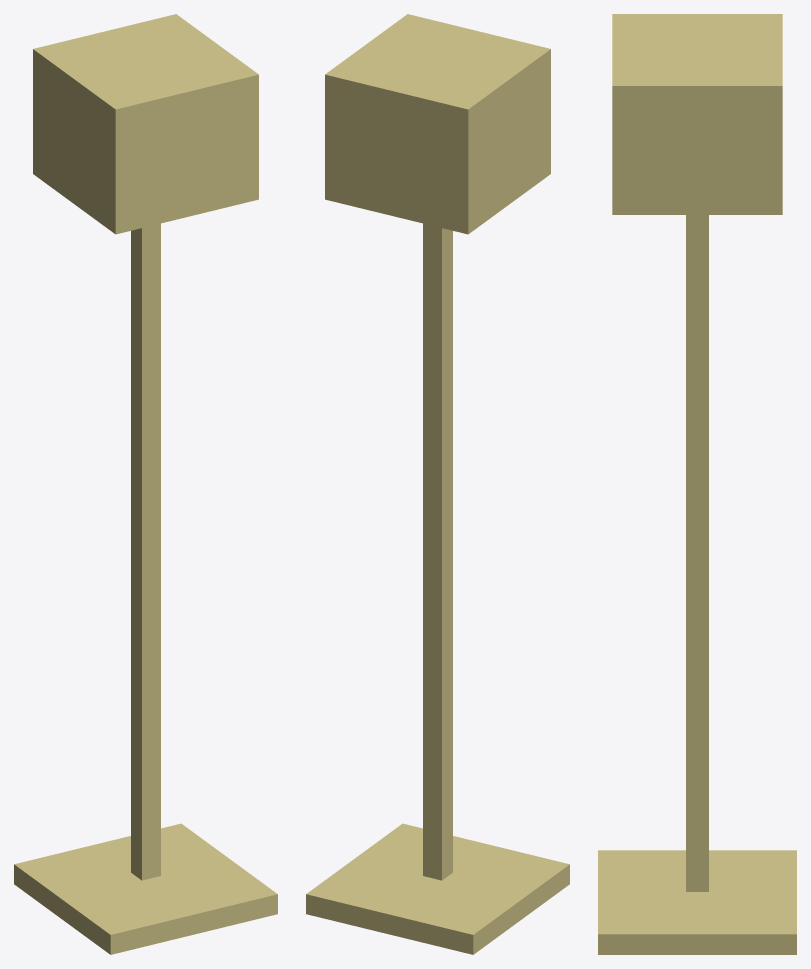
3 renders of one model, left to right at view 1: azimuth 30°, elevation 25°; view 2: azimuth 150°, elevation 25°; view 3: azimuth 270°, elevation 25°, orthographic. The views are drawn at different scales.
Parts seen in each view (by area): view 1: lamp-shade, lamp-base, lamp-pole; view 2: lamp-shade, lamp-base, lamp-pole; view 3: lamp-shade, lamp-base, lamp-pole.
Boxes of the visible parts, box(x1,y1,x2,y2) form: lamp-shade: box(33, 14, 258, 234); lamp-base: box(14, 823, 277, 954); lamp-pole: box(131, 223, 160, 880); lamp-shade: box(325, 14, 550, 234); lamp-base: box(306, 823, 569, 954); lamp-pole: box(423, 223, 452, 880); lamp-shade: box(612, 14, 782, 214); lamp-base: box(598, 850, 796, 954); lamp-pole: box(686, 215, 708, 891).
Bounding box in the file's own units: 0.35 × 1.67 × 0.35.
